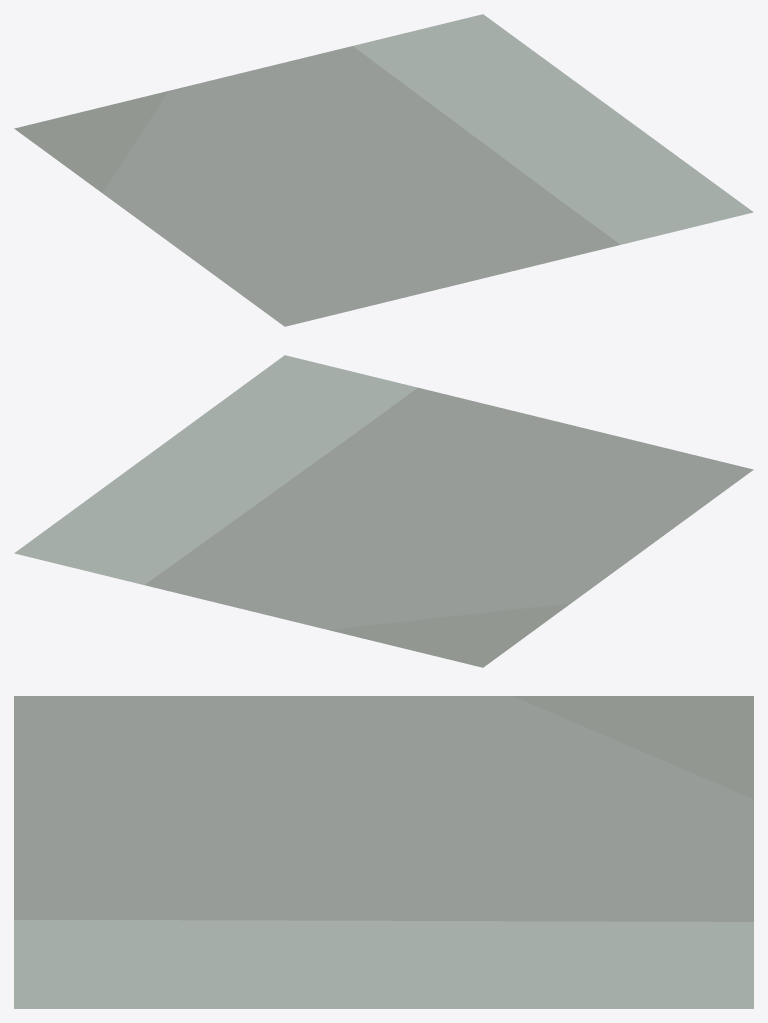
The picture shows the model from 3 angles, top to bottom: view 1: azimuth 30°, elevation 25°; view 2: azimuth 150°, elevation 25°; view 3: azimuth 270°, elevation 25°; orthographic projection. The views are drawn at different scales.
Bounding box in the file's own units: 0.983 × 0 × 0.983.
1 material, 1 textured.
